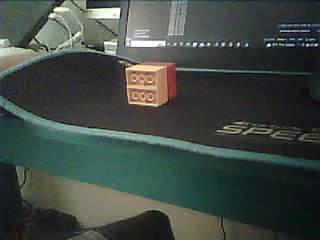lego: (125, 62, 176, 108)
